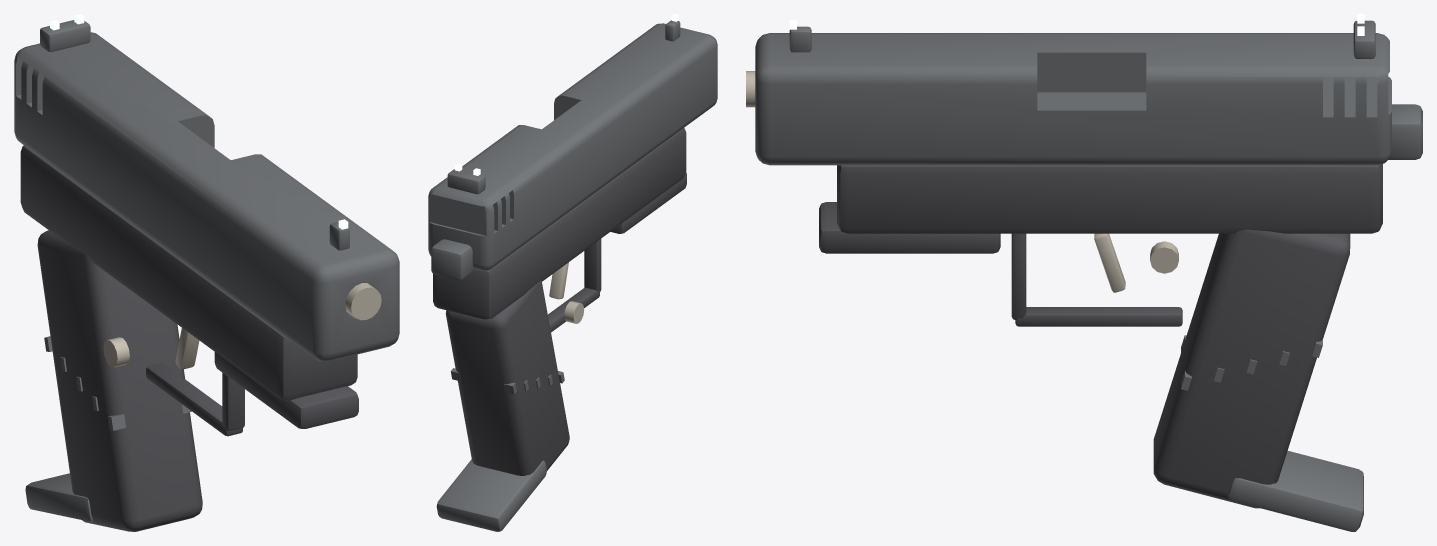
File: pistola.glb
3 views of the same model, side by side, from view 1: azimuth 30°, elevation 25°; view 2: azimuth 150°, elevation 25°; view 3: azimuth 270°, elevation 25° (orthographic). The views are drawn at different scales.
Parts seen in each view (by area): view 1: pistola_gun_steel, pistola_gun_polymer, pistola_gun_accent; view 2: pistola_gun_steel, pistola_gun_polymer, pistola_gun_accent; view 3: pistola_gun_steel, pistola_gun_polymer, pistola_gun_accent.
Boxes of the visible parts, box(x1,y1,x2,y2) form: pistola_gun_steel: box(14, 20, 399, 522); pistola_gun_polymer: box(20, 145, 358, 531); pistola_gun_accent: box(103, 283, 381, 369); pistola_gun_steel: box(428, 20, 717, 531); pistola_gun_polymer: box(433, 128, 686, 475); pistola_gun_accent: box(549, 262, 584, 323); pistola_gun_steel: box(755, 20, 1422, 531); pistola_gun_polymer: box(819, 164, 1382, 508); pistola_gun_accent: box(746, 71, 1178, 292).
Bounding box in the file's own units: 0.031 × 0.149 × 0.186.
